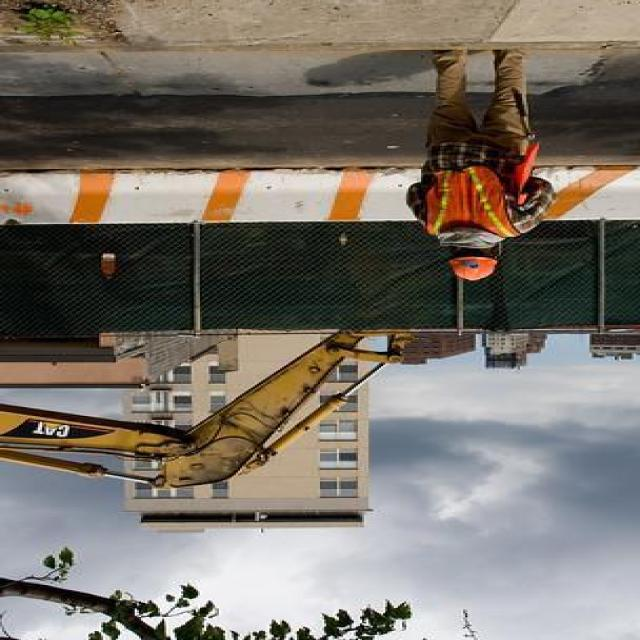helmet: (436, 250, 512, 282)
jacket: (416, 162, 538, 246)
